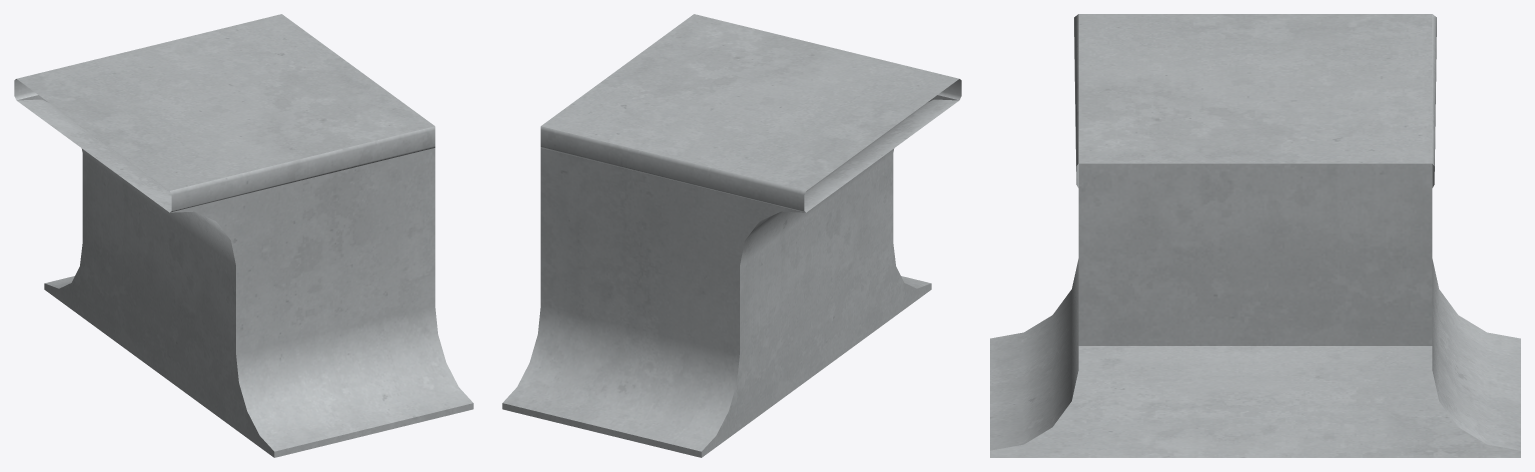
The model's file is Bridge_End.fbx.
The picture shows the model from 3 angles, left to right: view 1: azimuth 30°, elevation 25°; view 2: azimuth 150°, elevation 25°; view 3: azimuth 270°, elevation 25°; orthographic projection. The views are drawn at different scales.
Visible parts, largest first — view 1: Bridge_End; view 2: Bridge_End; view 3: Bridge_End.
Part boxes in pixels (x1,y1,x2,y2): Bridge_End: (14, 14, 473, 457); Bridge_End: (502, 14, 961, 457); Bridge_End: (990, 14, 1520, 457).
Size of the model in its own units: 8 by 7.35 by 12.
1 material, 1 textured.
